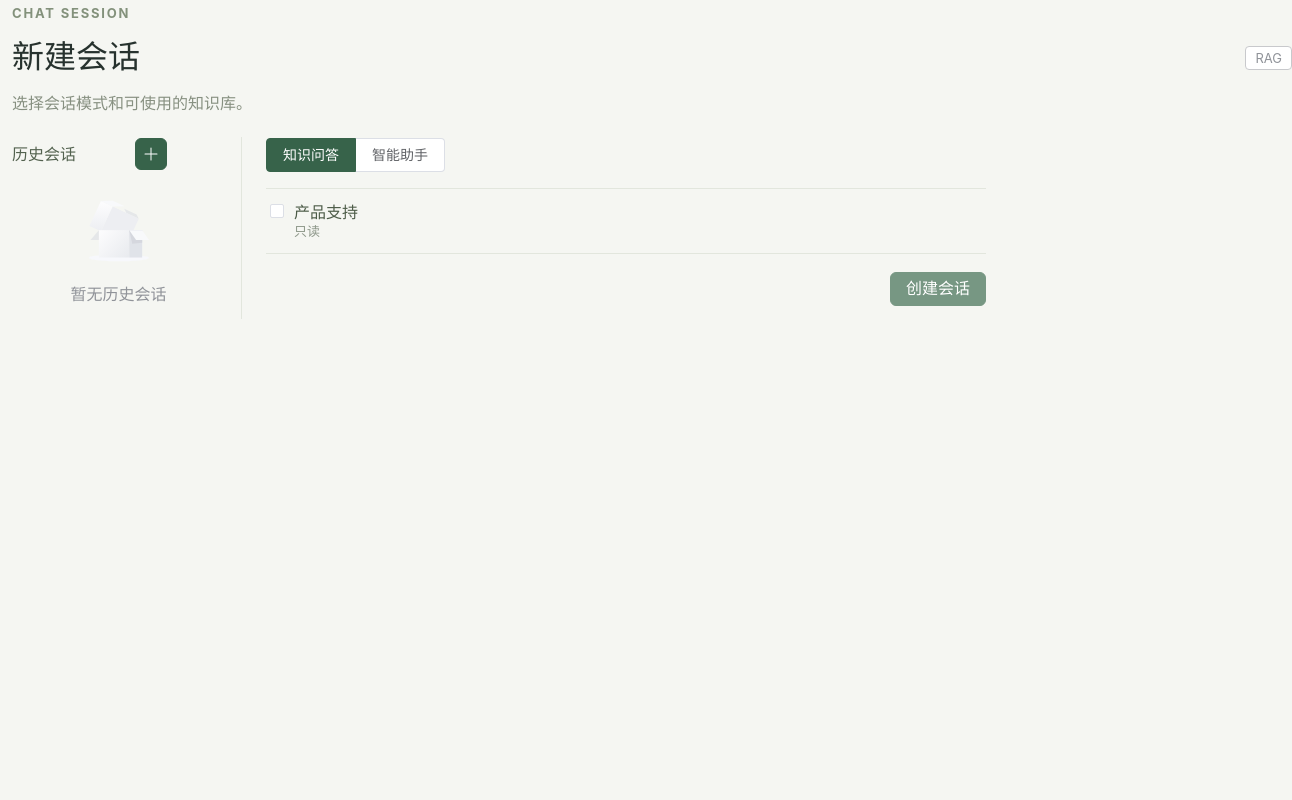
Test: 会话创建页面 › 选择可访问知识库后创建固定 RAG 会话并展示摘要
The width and height of the screenshot is (1292, 800).
Click the checkbox labelled "产品支持 只读".
click(326, 212)  # box [266, 189, 986, 254]
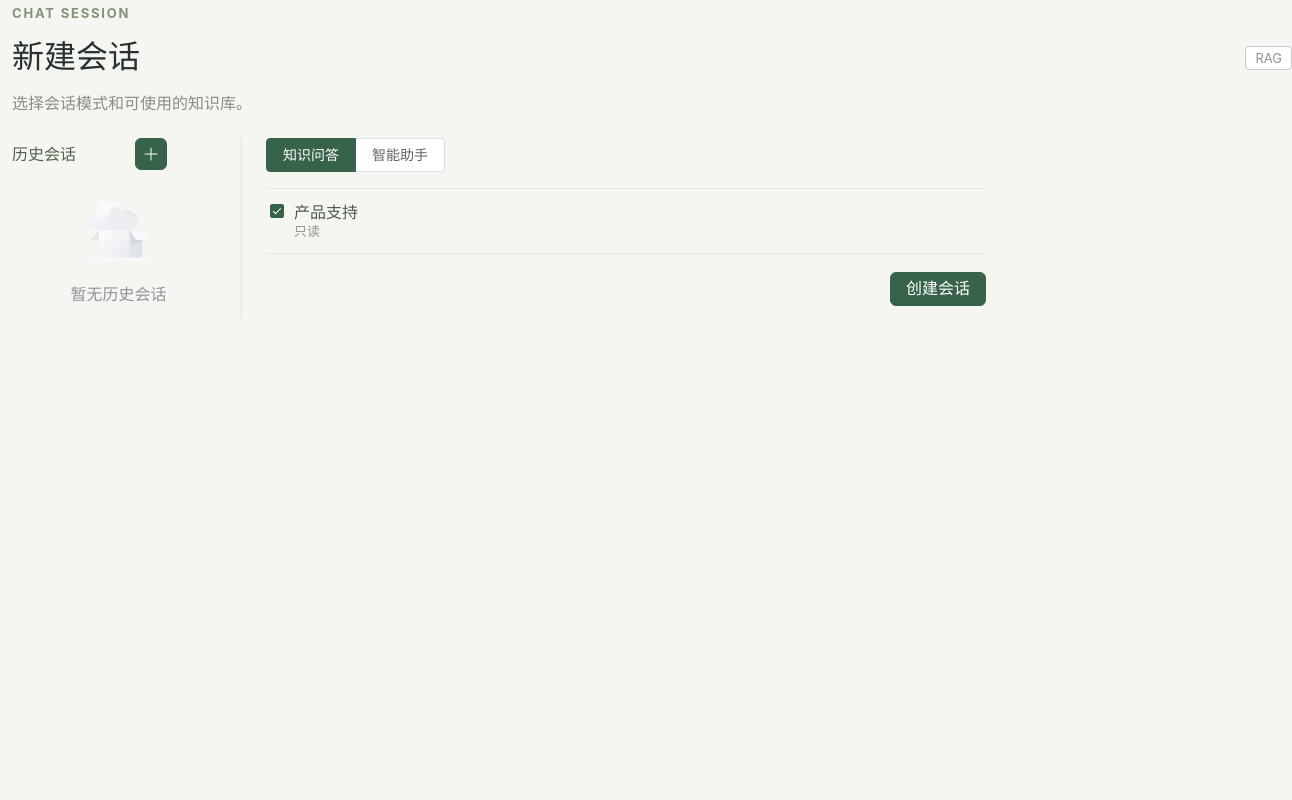
Submit the form with class "chat-session-form", box [266, 137, 986, 306]
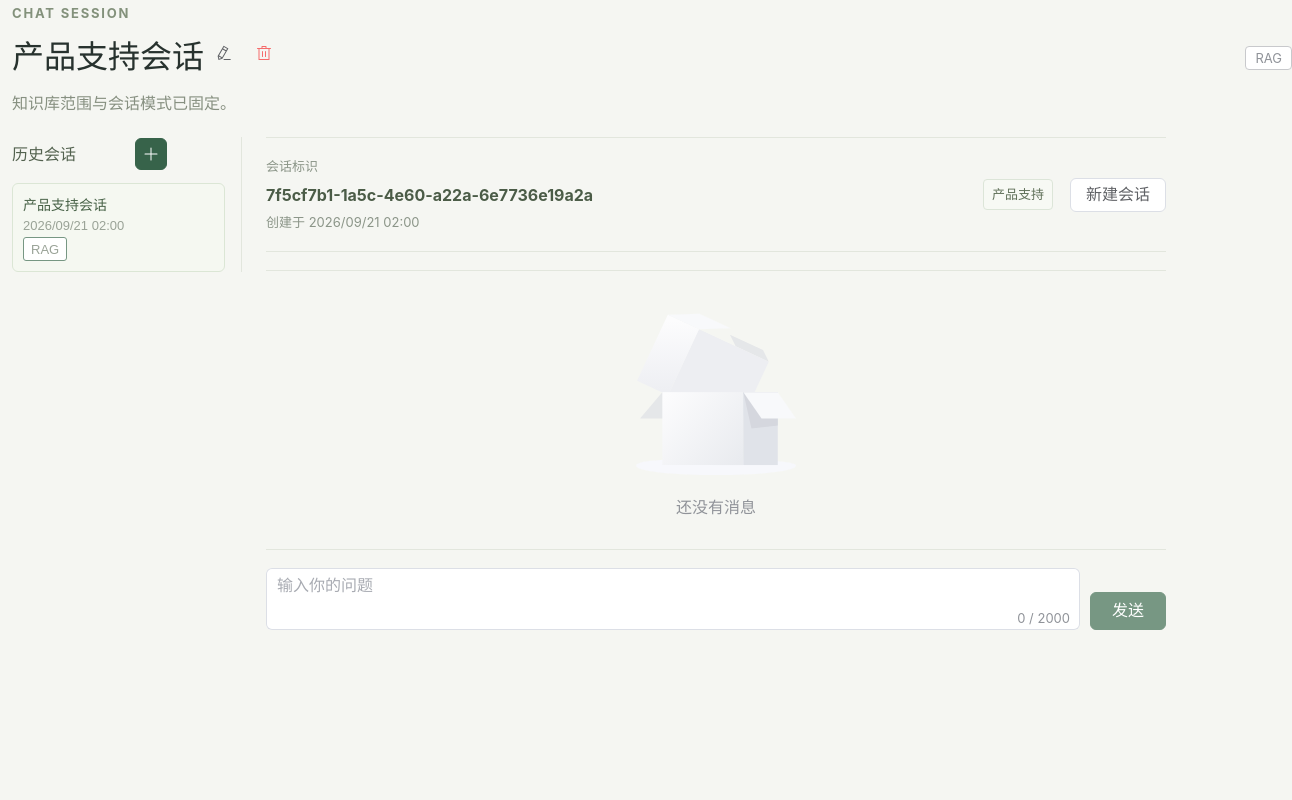
Check: the text "产品支持" is shown, box [12, 37, 204, 76]
Check: the text "7f5cf7b1-1a5c-4e60-a22a-6e7736e19a2a" is shown, box [266, 184, 593, 204]
Check: the text "发送" is shown, box [1112, 603, 1144, 619]
